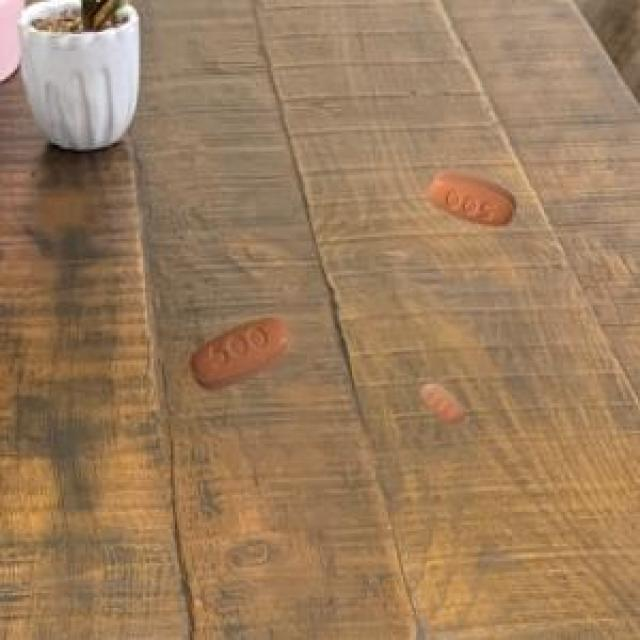Biogesic: (181, 295, 303, 396), (409, 154, 523, 247), (407, 359, 469, 436)
